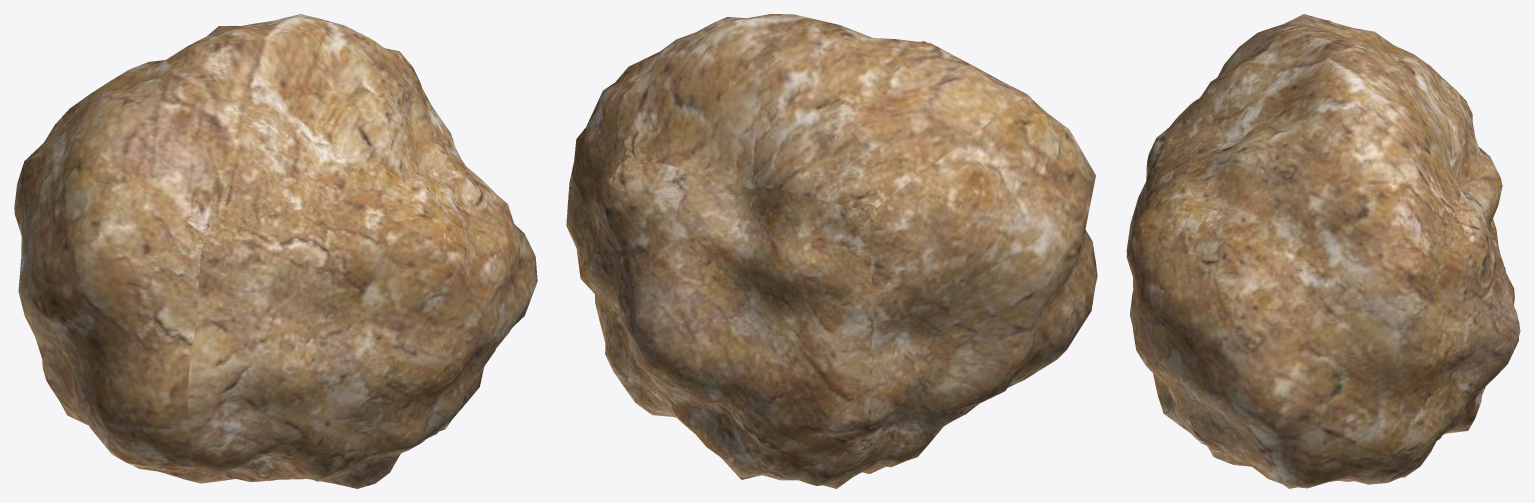
File: asteroid05.obj
3 views of the same model, side by side, from view 1: azimuth 30°, elevation 25°; view 2: azimuth 150°, elevation 25°; view 3: azimuth 270°, elevation 25° (orthographic). The views are drawn at different scales.
Visible parts, largest first — view 1: Cube; view 2: Cube; view 3: Cube.
Boxes of the visible parts, <box> form: Cube: <box>14,14,537,488</box>; Cube: <box>566,14,1097,488</box>; Cube: <box>1126,14,1520,488</box>.
Bounding box in the file's own units: 1.93 × 1.69 × 1.49.
Materials: 1 (1 with a texture image).
